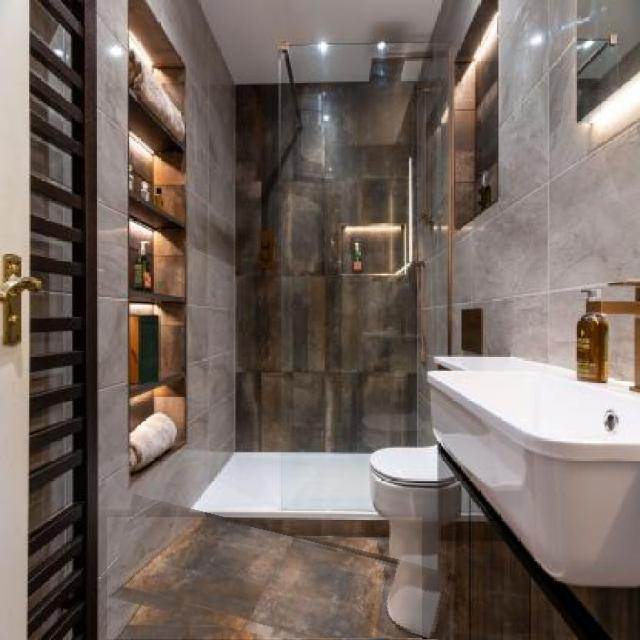floor: (108, 518, 420, 639)
